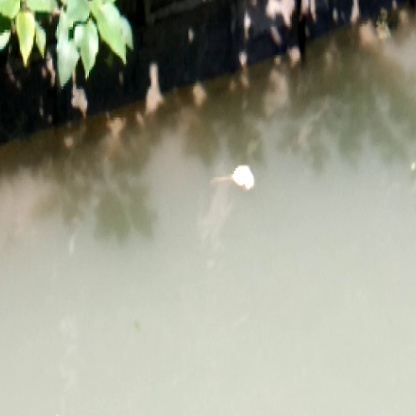leaf: (91, 4, 135, 66)
